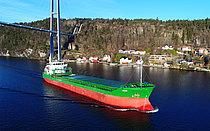Ship: (38, 53, 167, 118)
